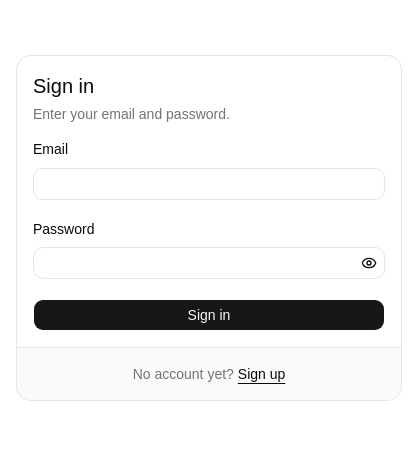
Test: /signin 400 → a form alert lists every message; values are kept
In the field labelled "Email": coordinates (209, 184) [33, 168, 385, 200], type "ann@example.com"
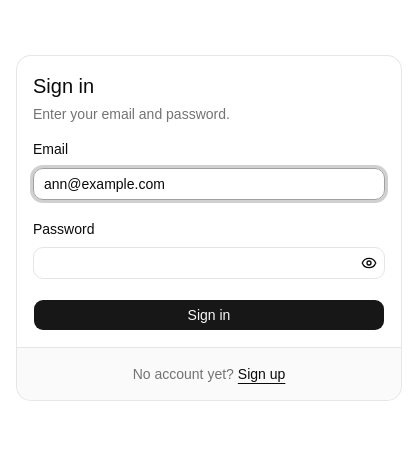
In the password field labelled "Password": coordinates (209, 263) [33, 247, 385, 279], type "short"
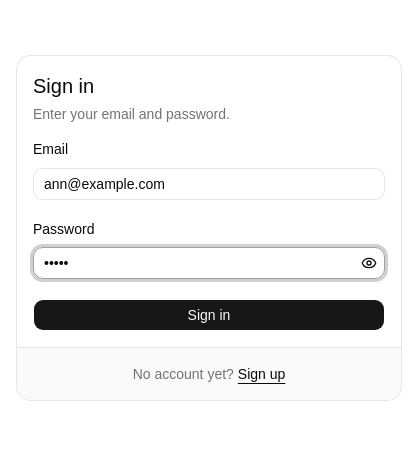
Click the button "Sign in": coordinates (209, 315) [33, 299, 385, 331]
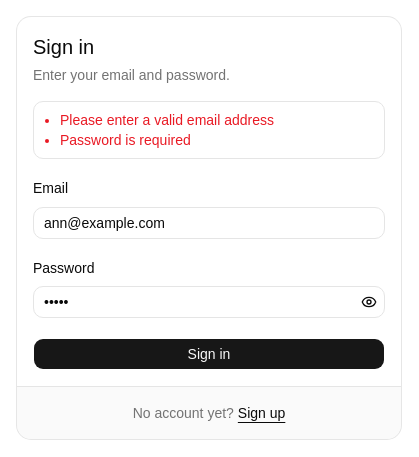
Check: the list items read "Please enter a valid email address", "Password is required", in this order, box [60, 112, 274, 128]; [60, 132, 191, 148]
